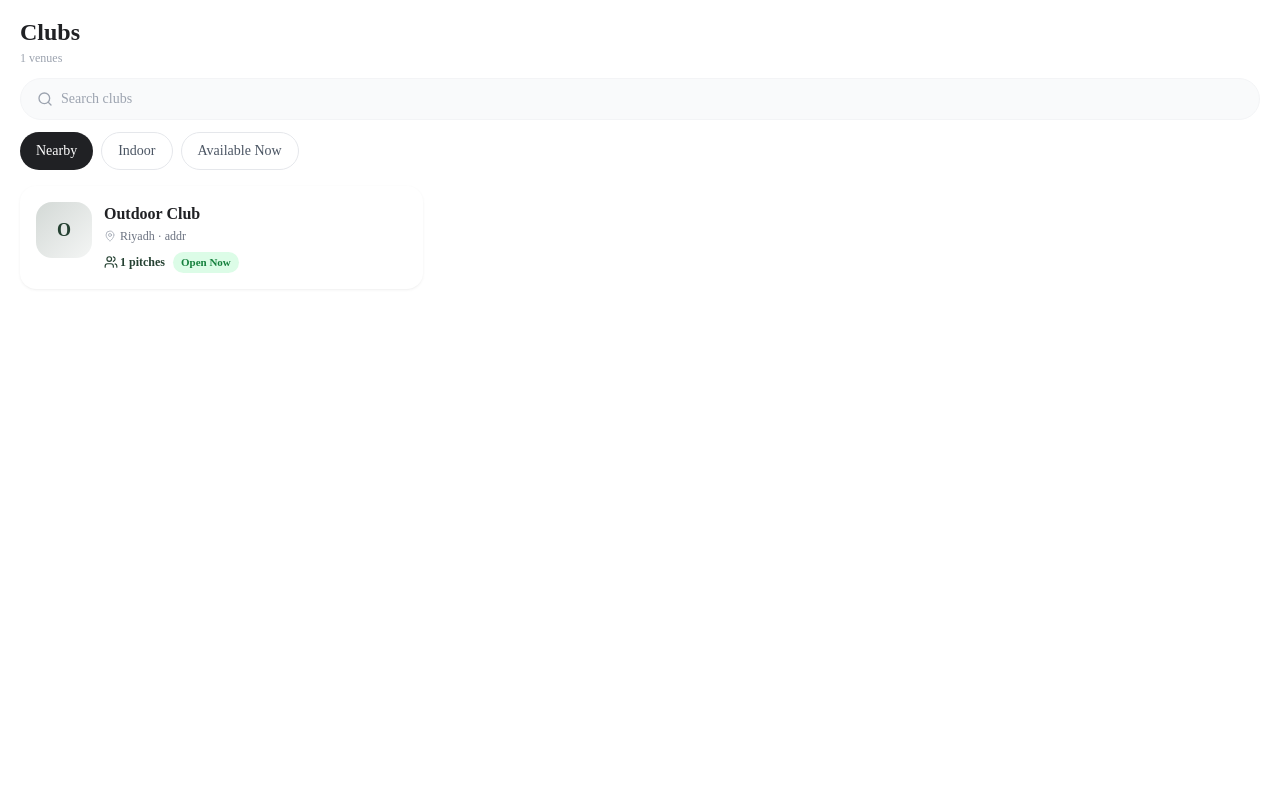
it: clubs page — run #68 drain slice › filtered-empty (venues exist, none match) keeps the "adjust your filters" advice
Click the button "Indoor": (137, 151) [101,132,172,170]
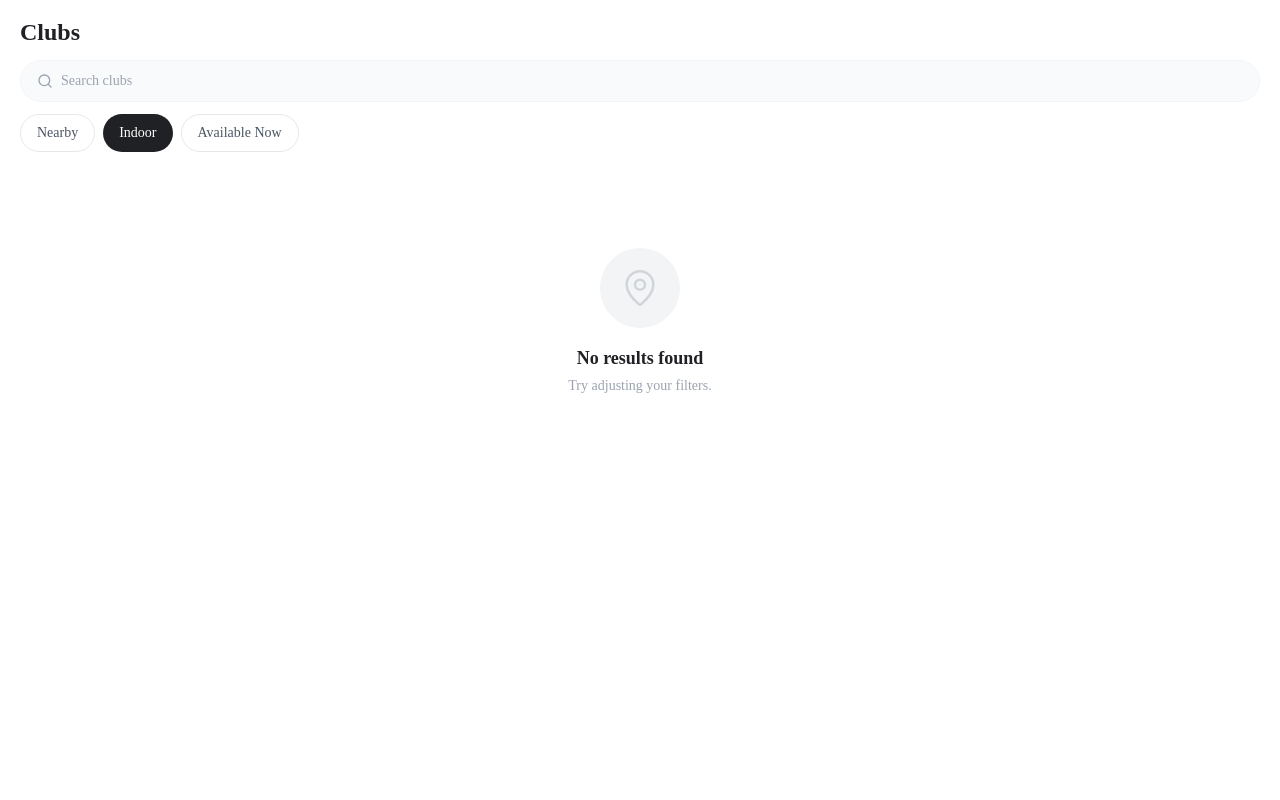
Check: the heading "No results found" is shown, box [577,344,703,372]
Check: the text "Try adjusting your filters." is shown, box [568,376,712,396]
